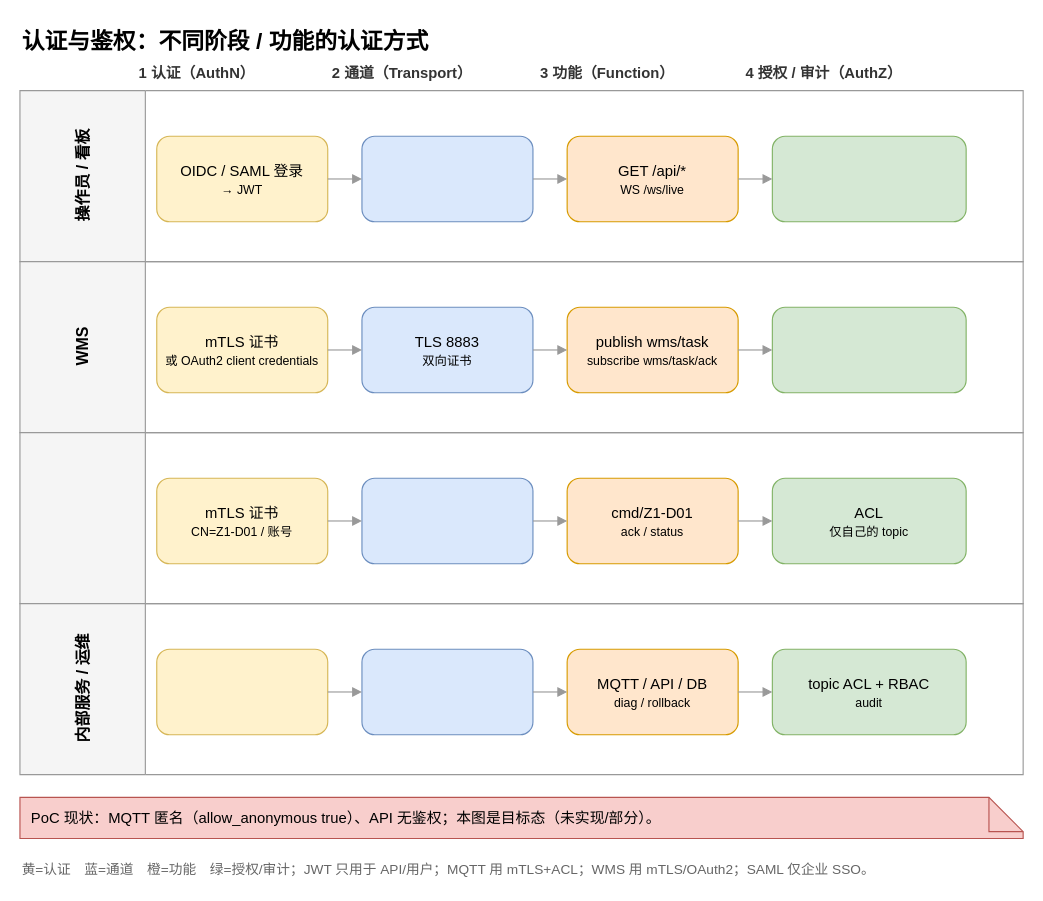
The diagram is 1043 pixels wide and 901 high, and some of its shapes have lost their labels. Here are the shapes that lost their labels. From the top down, the box of each, then its label:
(361, 135, 533, 222): HTTPS / WSS JWT Bearer
(771, 135, 966, 222): RBAC viewer / operator + audit
(771, 306, 966, 393): ACL 只允许 wms/task + ack
(361, 477, 533, 564): TLS 8883
(19, 431, 1023, 604): 设备 / MultiControl
(156, 648, 328, 735): 服务 mTLS 运维 SSO + MFA
(361, 648, 533, 735): 内网 / TLS
